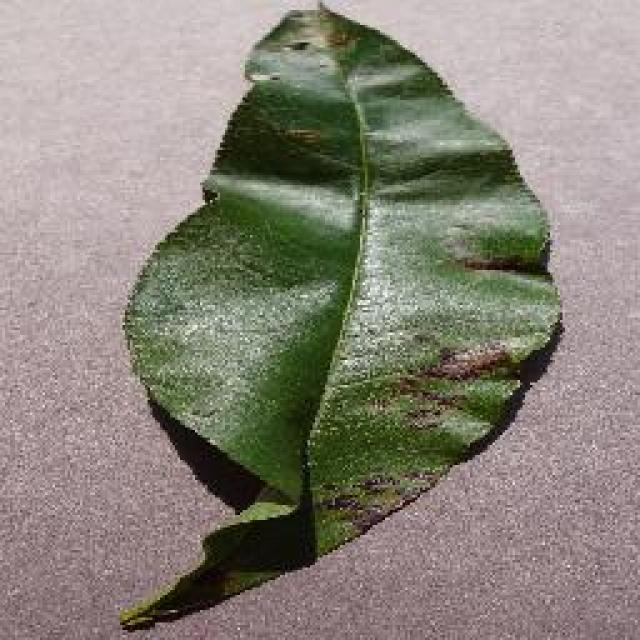Peach_Bacterial_Spot: (242, 140, 538, 523)
